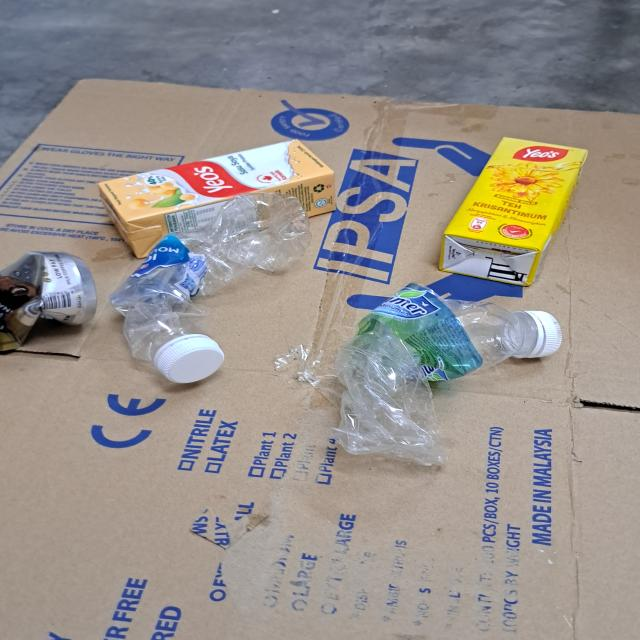can: (0, 251, 98, 353)
cardboard: (0, 76, 640, 640)
drink carton: (96, 140, 338, 260), (436, 136, 589, 287)
plastic bottle: (330, 281, 538, 467), (109, 192, 312, 362)
plastic bottle cap: (156, 336, 226, 384), (516, 310, 564, 358)
